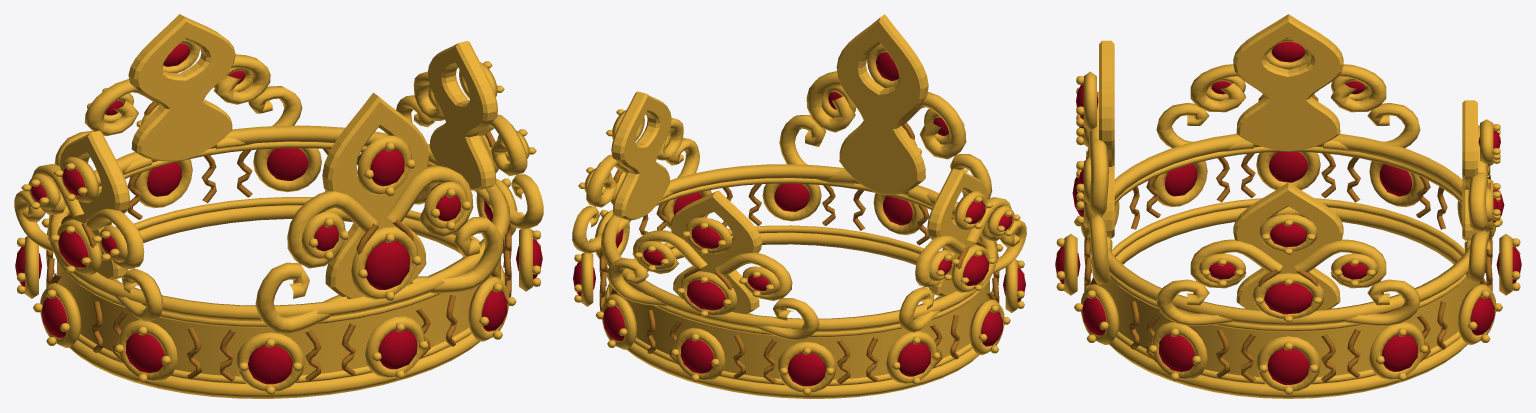
Rendered from zuozuo-crown.glb.
The picture shows the model from 3 angles, left to right: view 1: azimuth 30°, elevation 25°; view 2: azimuth 150°, elevation 25°; view 3: azimuth 270°, elevation 25°; orthographic projection. The views are drawn at different scales.
Parts seen in each view (by area): view 1: immutable-ornate-ruby-crown; view 2: immutable-ornate-ruby-crown; view 3: immutable-ornate-ruby-crown.
Part boxes in pixels (<box>): immutable-ornate-ruby-crown: <box>14,14,543,398</box>; immutable-ornate-ruby-crown: <box>572,14,1026,398</box>; immutable-ornate-ruby-crown: <box>1055,14,1521,398</box>.
Size of the model in its own units: 1.23 by 0.7203 by 1.14.
